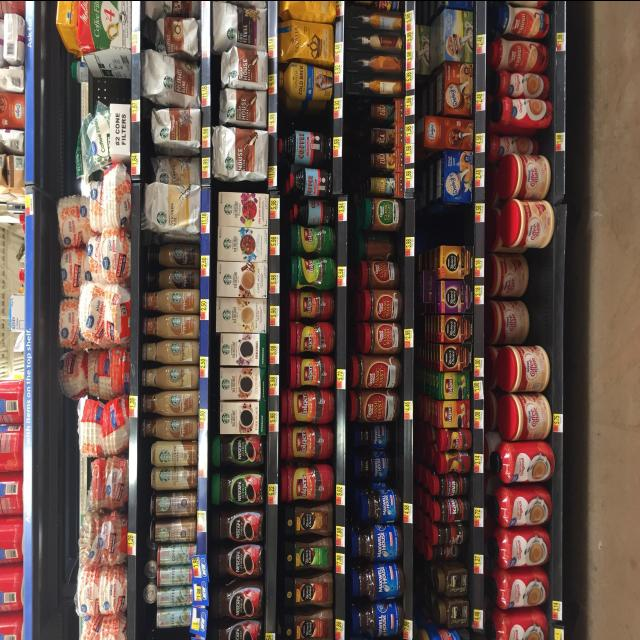empty_space: (527, 245, 553, 335), (414, 207, 470, 245), (96, 72, 131, 100)
